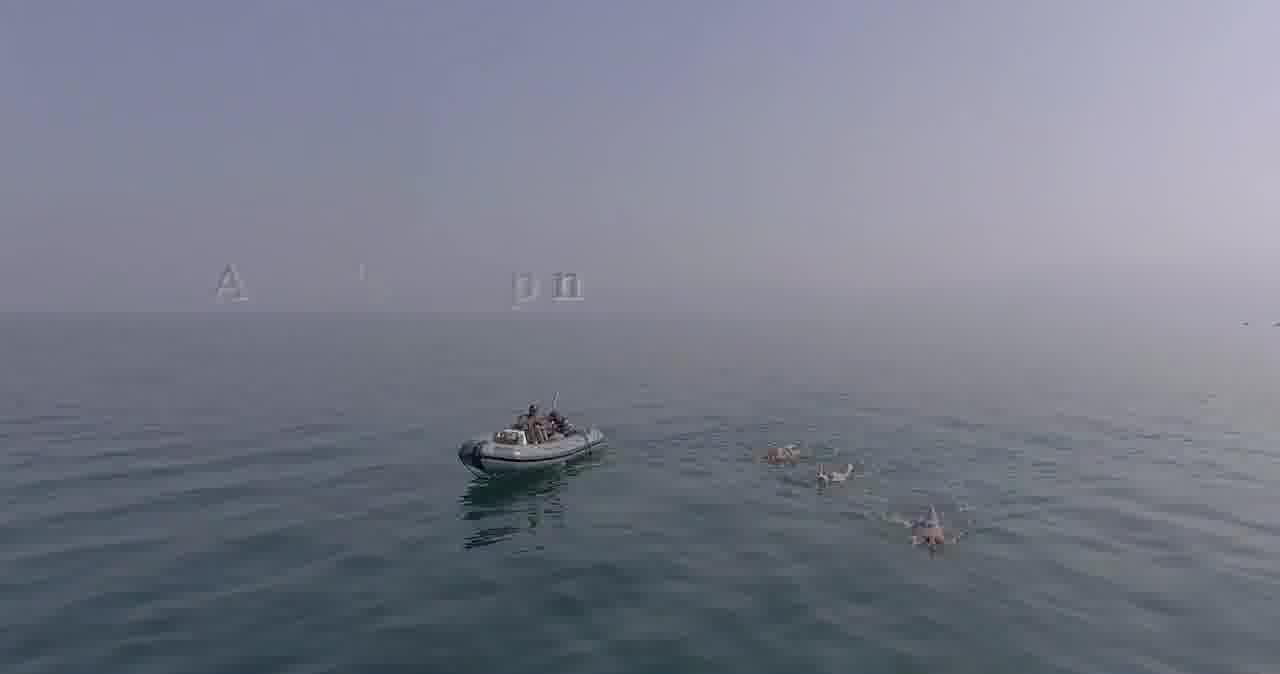human: (903, 516, 951, 554), (811, 462, 847, 492), (761, 439, 801, 460)
